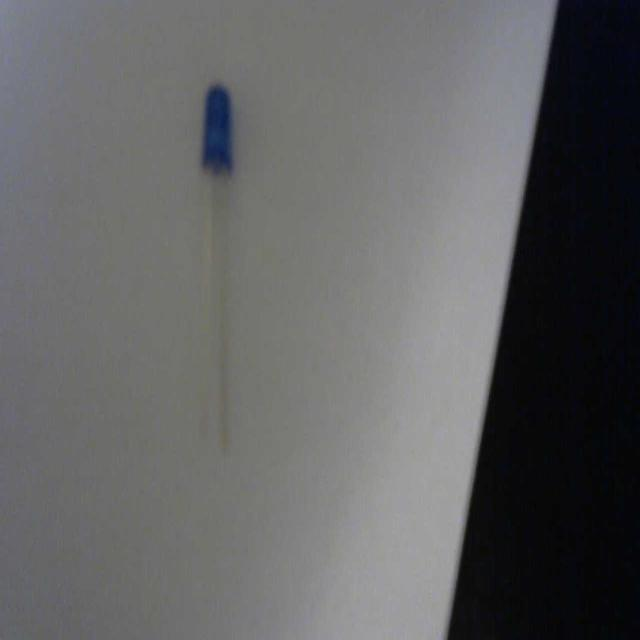blue_led: (201, 83, 233, 174)
